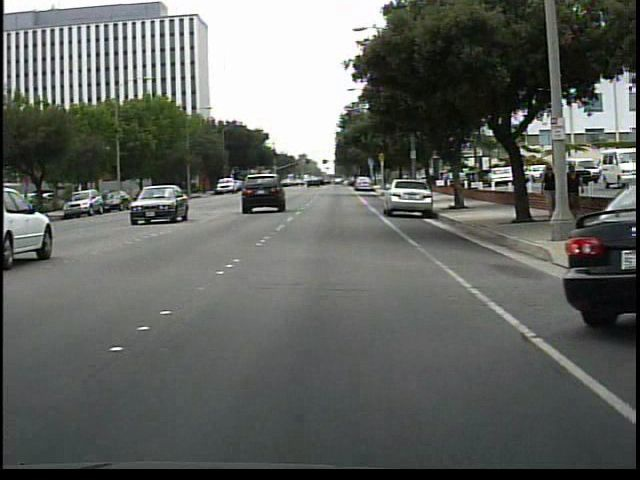person: (536, 161, 558, 225), (562, 158, 584, 220)
